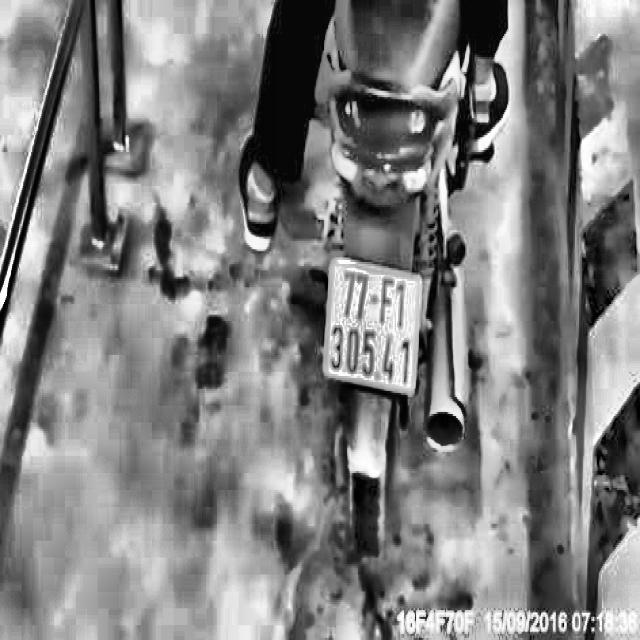plate: (320, 246, 423, 399)
